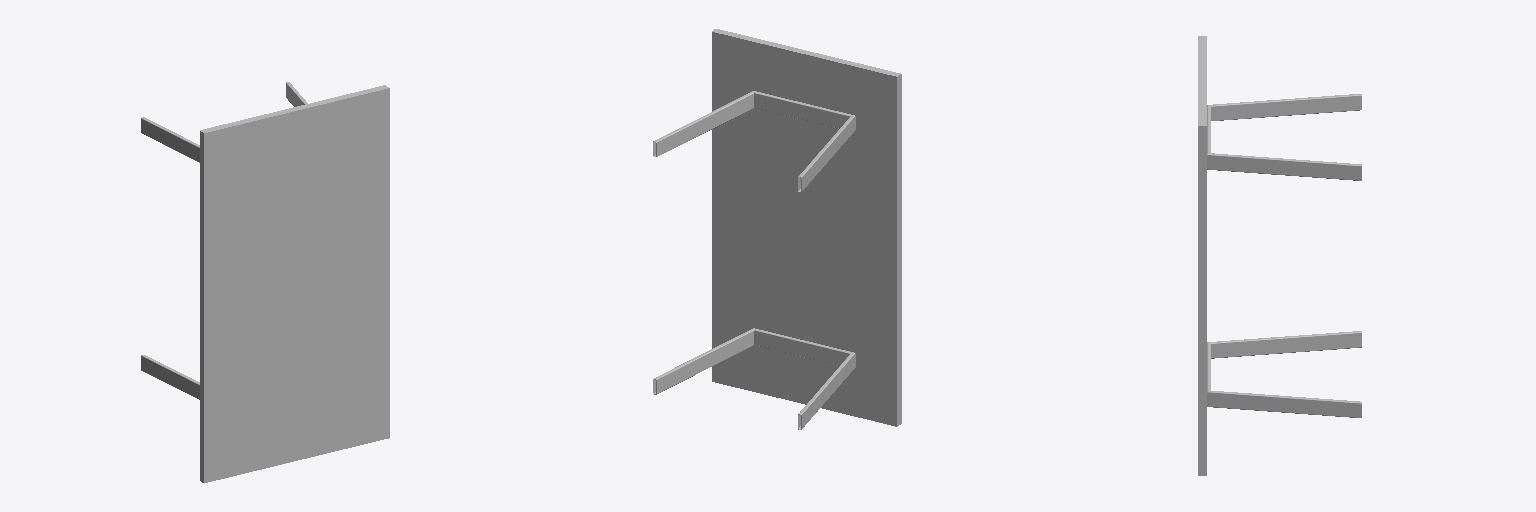
The model's file is table_1.obj.
The picture shows the model from 3 angles: view 1: azimuth 30°, elevation 25°; view 2: azimuth 150°, elevation 25°; view 3: azimuth 270°, elevation 25°; orthographic projection.
Parts seen in each view (by area): view 1: obj1281, obj1289, obj1290, obj1288, obj1191, obj95; view 2: obj1292, obj1284, obj1288, obj1290, obj281, obj791, obj305, obj788, obj499, obj526, obj491, obj528; view 3: obj1287, obj1283, obj311, obj876, obj309, obj878, obj21, obj1144, obj1182, obj7.
Boxes of the visible parts, box(x1,y1,x2,y2) form: obj1281: box(204, 88, 389, 437); obj1289: box(204, 135, 388, 482); obj1290: box(200, 162, 203, 482); obj1288: box(200, 131, 203, 403); obj1191: box(141, 119, 199, 161); obj95: box(141, 356, 199, 399); obj1292: box(712, 32, 896, 424); obj1284: box(712, 34, 896, 426); obj1288: box(897, 74, 901, 419); obj1290: box(897, 90, 901, 426); obj281: box(657, 109, 750, 156); obj791: box(658, 331, 753, 379); obj305: box(660, 94, 753, 141); obj788: box(657, 346, 750, 393); obj499: box(754, 94, 840, 127); obj526: box(754, 331, 840, 365); obj491: box(757, 94, 849, 126); obj528: box(756, 331, 849, 363); obj1287: box(1198, 126, 1206, 473); obj1283: box(1198, 148, 1206, 475); obj311: box(1208, 155, 1361, 180); obj876: box(1213, 393, 1361, 417); obj309: box(1207, 155, 1360, 180); obj878: box(1207, 393, 1358, 417); obj21: box(1222, 333, 1361, 346); obj1144: box(1218, 96, 1361, 109); obj1182: box(1211, 107, 1352, 120); obj7: box(1211, 344, 1356, 357).
Size of the model in its own units: 39.37 by 70.87 by 29.92.